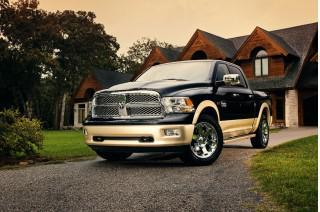ram: (116, 97, 128, 112)
